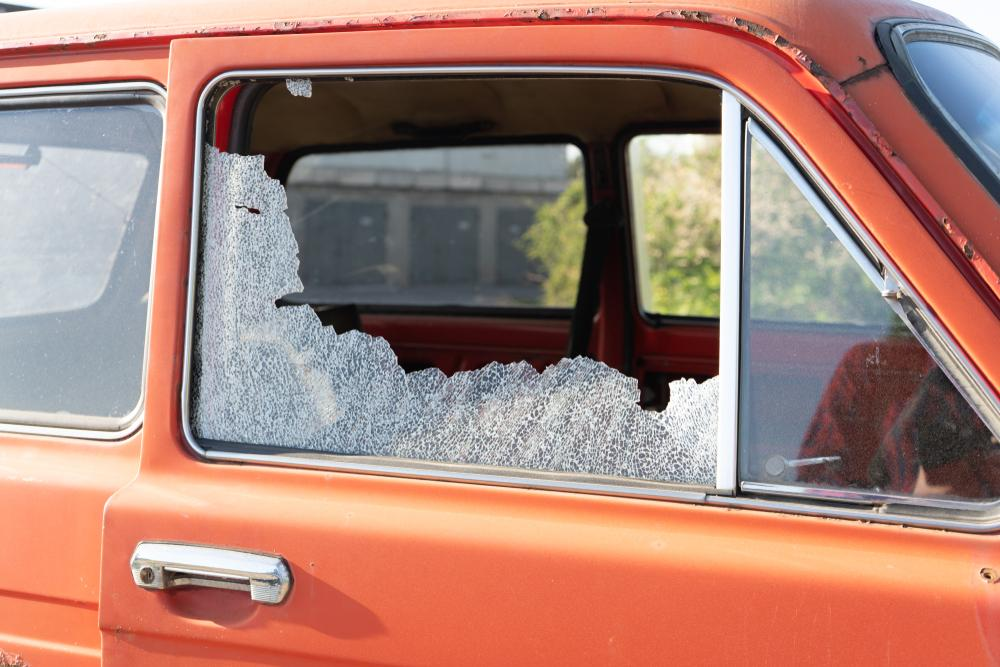glass shatter: (190, 75, 722, 486)
